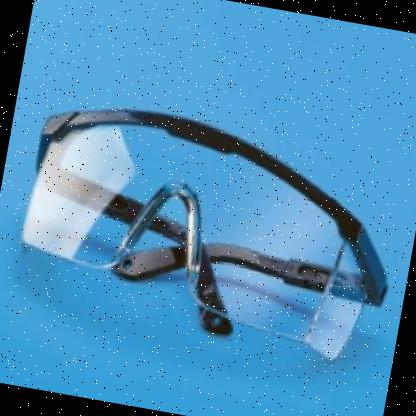oculos: (0, 86, 416, 378)
